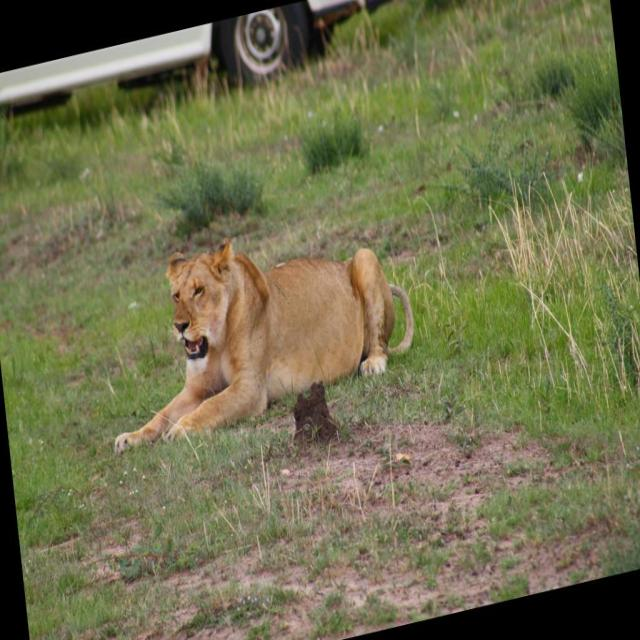Lion: (98, 195, 422, 446)
